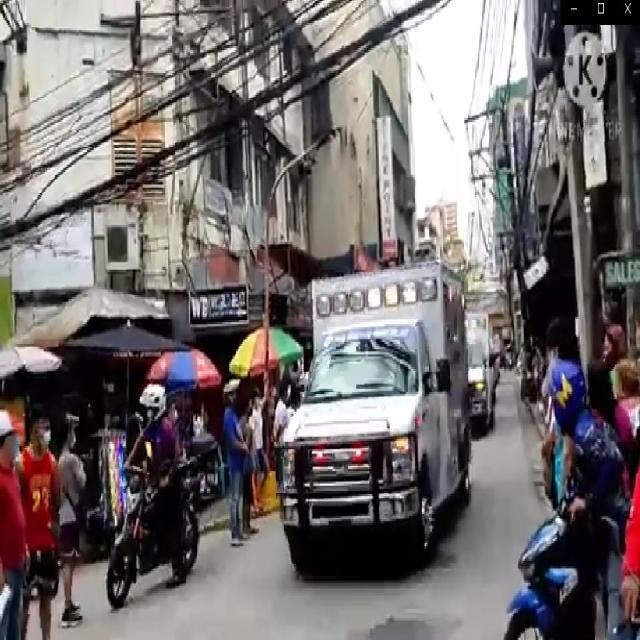emergency: (277, 269, 475, 578), (424, 304, 496, 441)
